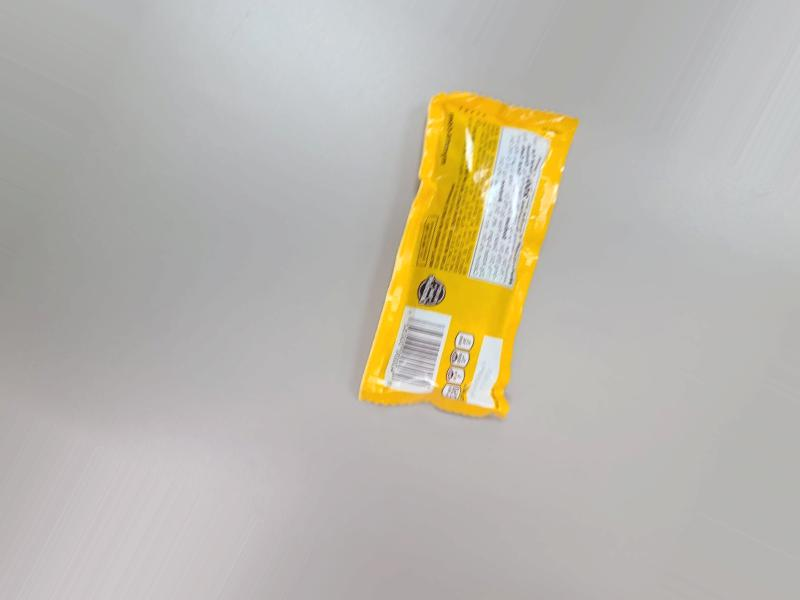m&m: (353, 92, 599, 434)
